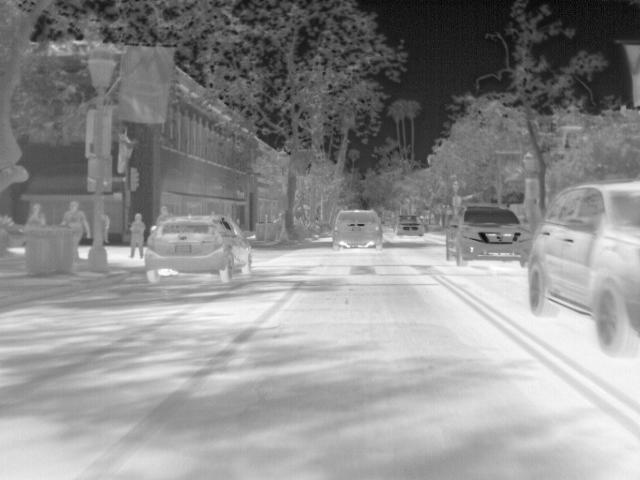car: (530, 177, 640, 355), (142, 212, 255, 283), (441, 203, 533, 269), (333, 210, 385, 250), (397, 213, 428, 239)
person: (60, 199, 91, 250), (126, 212, 145, 260), (25, 203, 47, 228)
